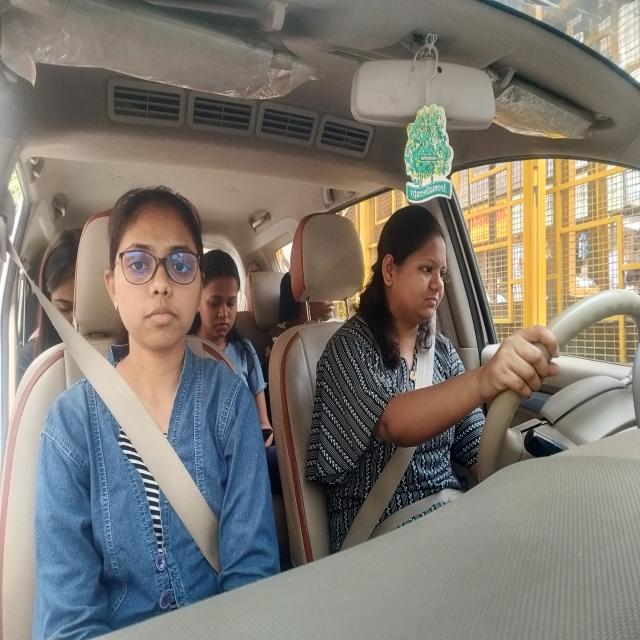person: (103, 172, 211, 370), (380, 190, 466, 355), (31, 209, 86, 351), (197, 229, 246, 358)
